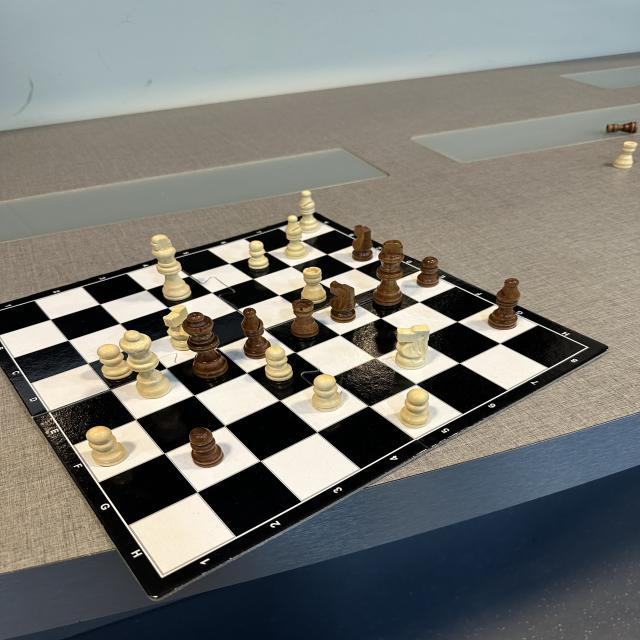Black-Bishop: (488, 278, 519, 329), (242, 308, 272, 360)
Black-King: (372, 240, 403, 306)
Black-Knight: (329, 281, 356, 322), (352, 224, 372, 262)
Black-Pawn: (189, 426, 224, 468), (416, 256, 439, 288)
Black-Queen: (182, 312, 229, 379)
Black-Rook: (292, 299, 319, 338), (606, 121, 638, 133)
White-Bishop: (285, 215, 307, 259), (300, 191, 318, 233)
White-King: (151, 234, 192, 300)
White-Knight: (395, 324, 430, 370), (163, 305, 195, 350)
White-Pawn: (85, 426, 127, 466), (97, 344, 133, 379), (400, 389, 430, 428), (311, 374, 341, 412), (265, 346, 293, 382), (248, 241, 268, 269)
White-Queen: (119, 330, 172, 399)
White-Rook: (300, 267, 326, 304), (614, 140, 638, 169)
